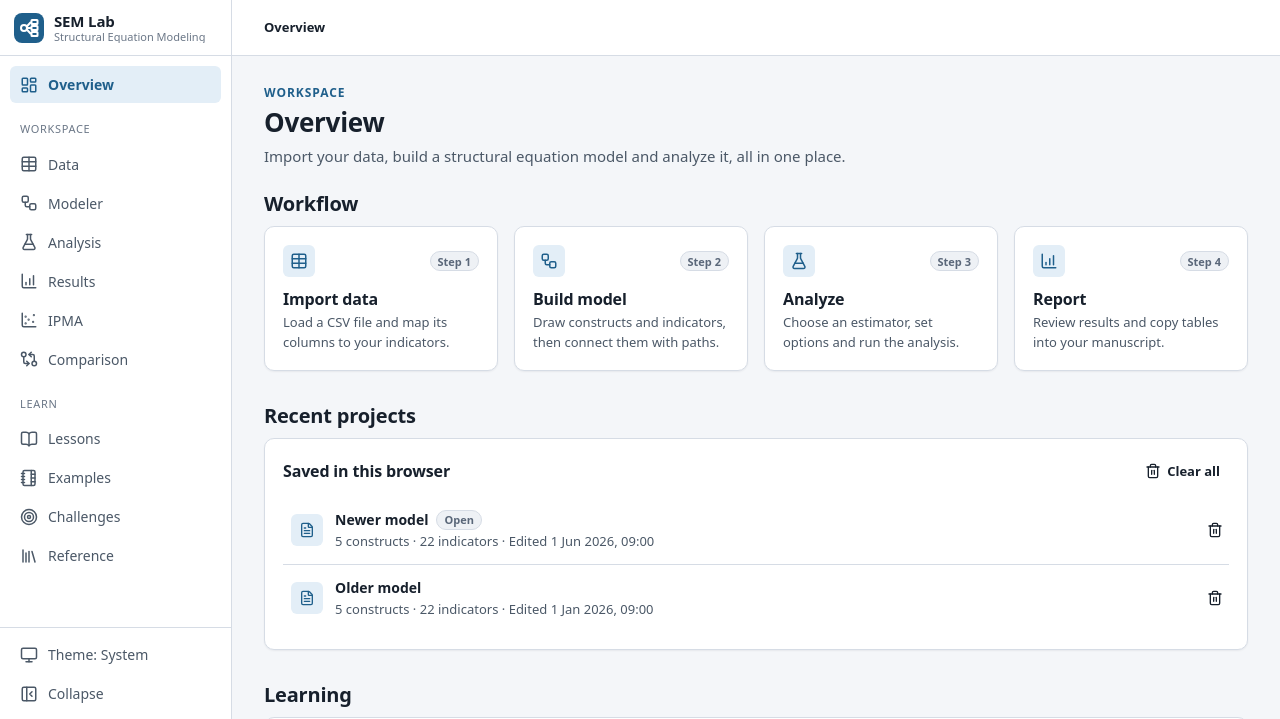
Test: Overview recent projects › Clear all removes projects, datasets and runs but keeps learning progress
This screenshot has width=1280, height=719.
Click the button "Clear all" at (1183, 471), box [1136,457,1229,485]
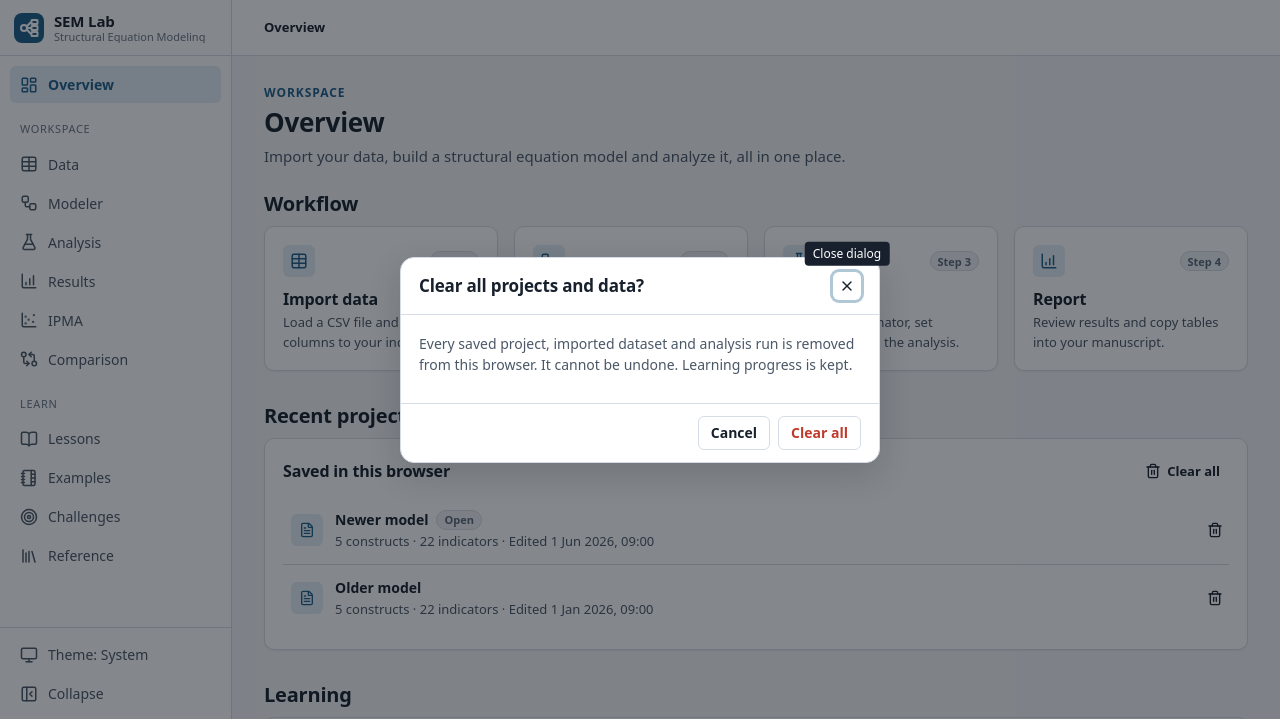
Click the button "Clear all" at (820, 433), box [778,416,861,450]
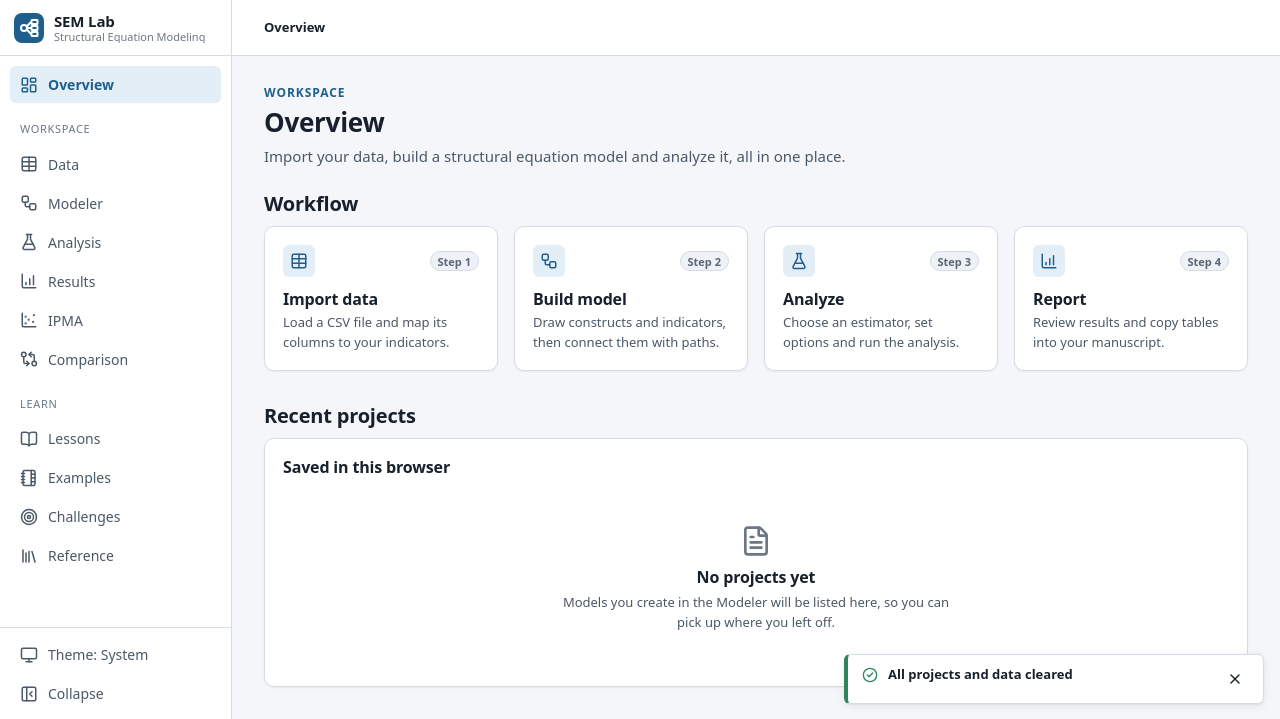
Expected: the heading "No projects yet" is shown, [697,567,815,587]
Expected: the button "Clear all" is gone
